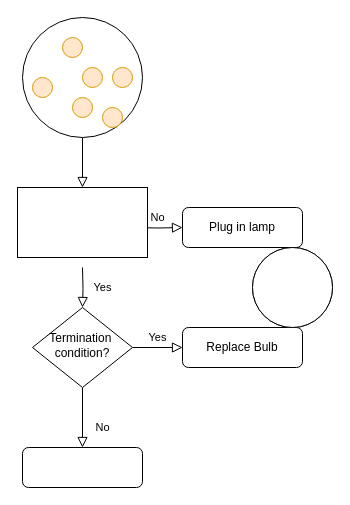
This 350x505 diagram has some shape labels left out. Each missing label, with the centre of its shape:
Evaluate fitness of individuals: [82,222]
Repair Lamp: [82,467]
